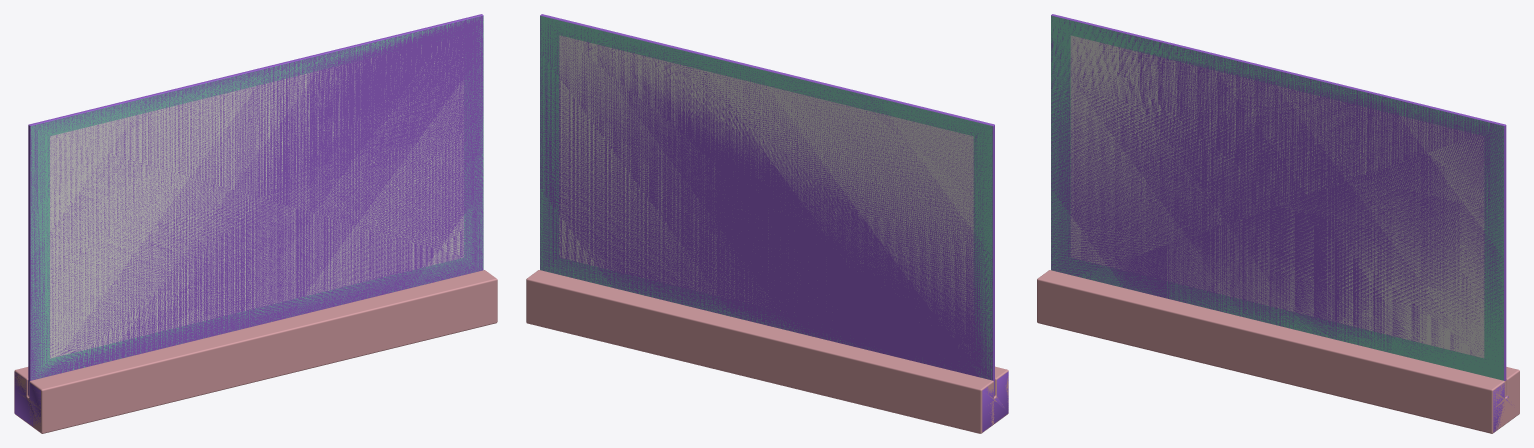
File: [decor] Information panel block.fbx
3 views of the same model, side by side, from view 1: azimuth 30°, elevation 25°; view 2: azimuth 150°, elevation 25°; view 3: azimuth 330°, elevation 25° (orthographic).
Visible parts, largest first — view 1: Information panel block_PHYS, Information panel block_GIPROXY, Information panel block_LOD0; view 2: Information panel block_PHYS, Information panel block_GIPROXY, Information panel block_LOD0; view 3: Information panel block_PHYS, Information panel block_GIPROXY, Information panel block_LOD0.
Part boxes in pixels (x1,y1,x2,y2): Information panel block_PHYS: (14,14,483,430); Information panel block_GIPROXY: (28,16,483,396); Information panel block_LOD0: (14,16,497,433); Information panel block_PHYS: (540,14,1008,431); Information panel block_GIPROXY: (526,16,995,433); Information panel block_LOD0: (526,270,1008,433); Information panel block_PHYS: (1051,14,1511,432); Information panel block_GIPROXY: (1051,15,1506,397); Information panel block_LOD0: (1037,17,1519,433).
Size of what is drawn, in the model's own units: 676 by 424 by 71.46.
